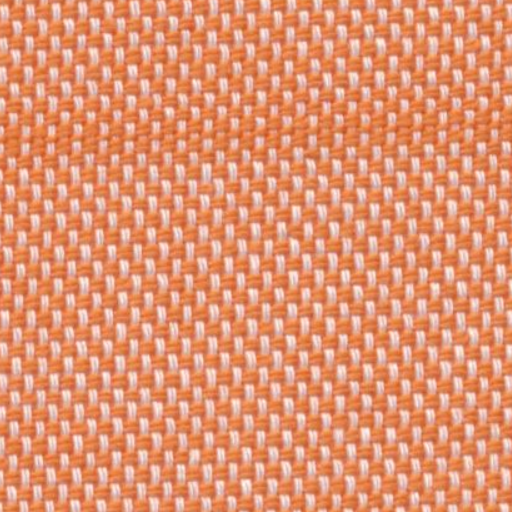TuoSha: (12, 91, 501, 190)
